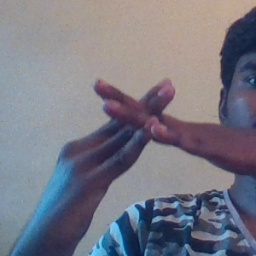W: (70, 67, 212, 187)
